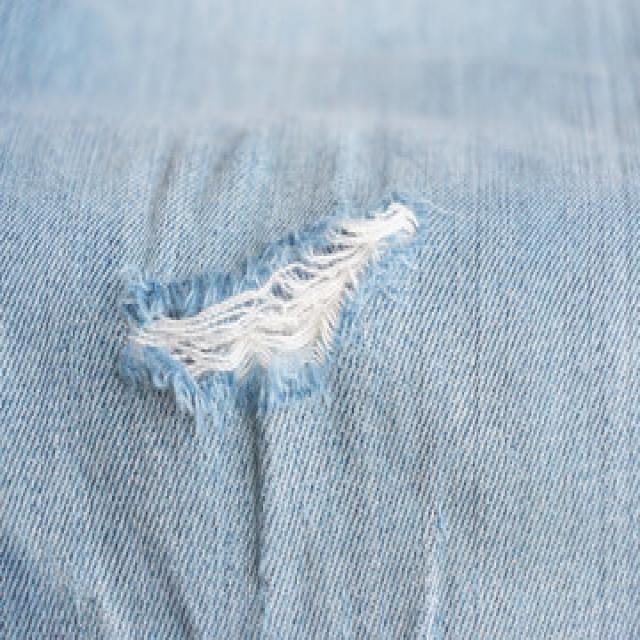Hole: (119, 195, 423, 432)
